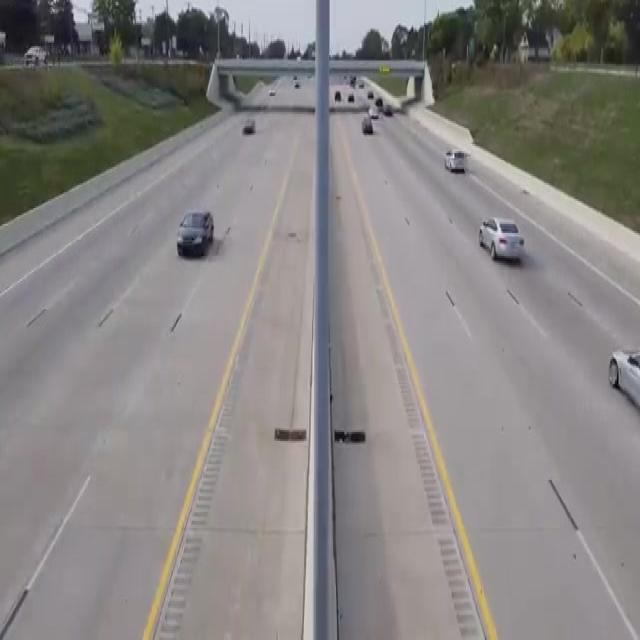car: (170, 204, 229, 273), (472, 214, 544, 267), (439, 147, 470, 178), (360, 112, 381, 148), (382, 100, 400, 131), (242, 111, 258, 145), (334, 72, 346, 115), (372, 89, 386, 110), (361, 87, 376, 101), (348, 92, 357, 110)
